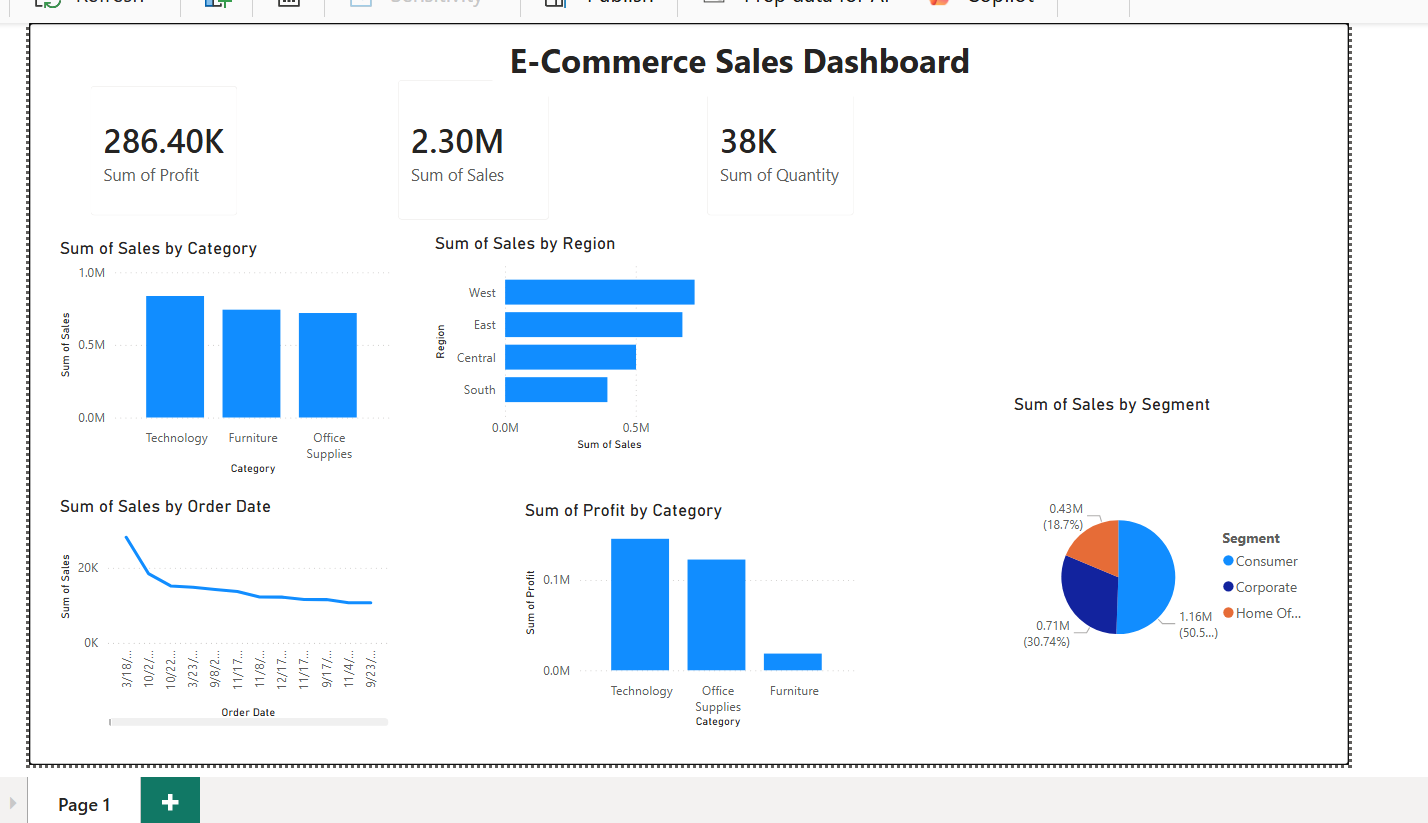

Layout of this report page (visuals, bound fields, positions):
{"tool":"powerbi","page":{"name":"Page 1","canvas":[1280,720],"ordinal":0},"visuals":[{"type":"clusteredColumnChart","fields":{"Category":["cleaned_superstore.Category"],"Y":["Sum(cleaned_superstore.Sales)"]},"box":[24.6,207.9,330.7,234.3],"z":0},{"type":"clusteredBarChart","fields":{"Category":["cleaned_superstore.Region"],"Y":["Sum(cleaned_superstore.Sales)"]},"box":[389.3,204.1,294.8,215.4],"z":1000},{"type":"clusteredColumnChart","fields":{"Category":["cleaned_superstore.Category"],"Y":["Sum(cleaned_superstore.Profit)"]},"box":[476.2,463,330.7,224.9],"z":2000},{"type":"lineChart","fields":{"Category":["cleaned_superstore.Order Date"],"Y":["Sum(cleaned_superstore.Sales)"]},"box":[24.6,459.2,328.8,228.7],"z":3000},{"type":"pieChart","fields":{"Category":["cleaned_superstore.Segment"],"Y":["Sum(cleaned_superstore.Sales)"]},"box":[950.6,359.1,300.5,336.4],"z":4000},{"type":"cardVisual","fields":{"Data":["Sum(cleaned_superstore.Sales)"]},"box":[340.2,37.8,181.4,170.1],"z":5000},{"type":"cardVisual","fields":{"Data":["Sum(cleaned_superstore.Profit)"]},"box":[41.6,43.5,177.6,160.6],"z":6000},{"type":"cardVisual","fields":{"Data":["Sum(cleaned_superstore.Quantity)"]},"box":[640.6,43.5,177.6,160.6],"z":7000},{"type":"textbox","box":[449.8,9.4,480,62.4],"z":8000}]}

Visuals, with their boxes on the page's 1280x720 design canvas (x1, y1, x2, y2). These are canvas units, not pixel positions in the 1428x823 screenshot, which may show the page scaled, cropped or inside an application window:
clusteredColumnChart - cleaned_superstore.Category x Sum(cleaned_superstore.Sales): [x1=25, y1=208, x2=355, y2=442]
clusteredBarChart - cleaned_superstore.Region x Sum(cleaned_superstore.Sales): [x1=389, y1=204, x2=684, y2=420]
clusteredColumnChart - cleaned_superstore.Category x Sum(cleaned_superstore.Profit): [x1=476, y1=463, x2=807, y2=688]
lineChart - cleaned_superstore.Order Date x Sum(cleaned_superstore.Sales): [x1=25, y1=459, x2=353, y2=688]
pieChart - cleaned_superstore.Segment x Sum(cleaned_superstore.Sales): [x1=951, y1=359, x2=1251, y2=696]
cardVisual - Sum(cleaned_superstore.Sales): [x1=340, y1=38, x2=522, y2=208]
cardVisual - Sum(cleaned_superstore.Profit): [x1=42, y1=44, x2=219, y2=204]
cardVisual - Sum(cleaned_superstore.Quantity): [x1=641, y1=44, x2=818, y2=204]
textbox: [x1=450, y1=9, x2=930, y2=72]
